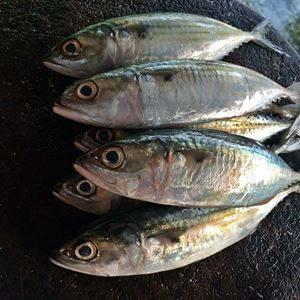Ikan Selar: (27, 202, 299, 284), (42, 60, 300, 127), (70, 130, 300, 201), (28, 9, 285, 72)
